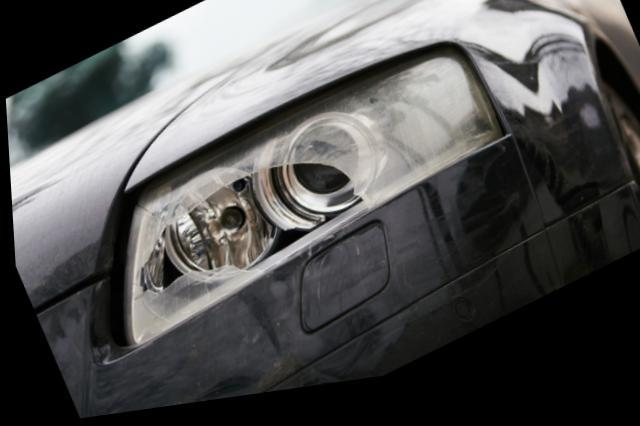lamp broken: (120, 59, 502, 349)
